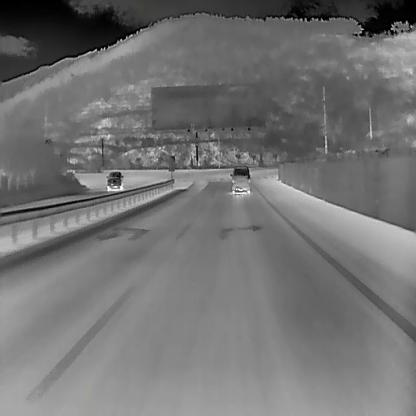car: (230, 164, 250, 194), (106, 171, 124, 190)
